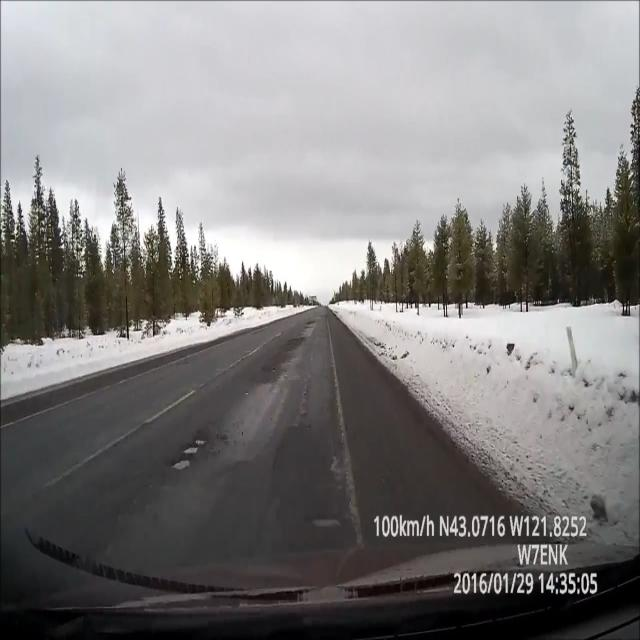Pothole: (169, 420, 220, 488)
